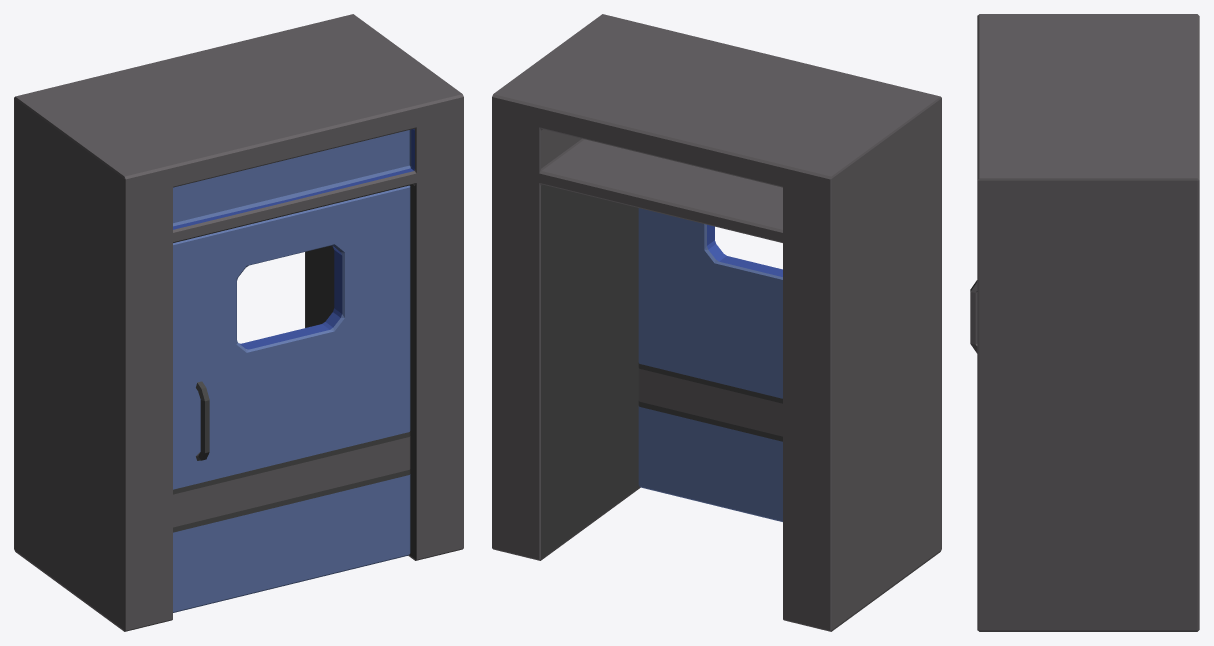
The model's file is door.fbx.
The picture shows the model from 3 angles, left to right: view 1: azimuth 30°, elevation 25°; view 2: azimuth 150°, elevation 25°; view 3: azimuth 270°, elevation 25°; orthographic projection.
Visible parts, largest first — view 1: doorframe, door; view 2: doorframe, door; view 3: doorframe, door.
Part boxes in pixels (x1,y1,x2,y2): doorframe: (14,14,463,631); door: (173,185,410,612); doorframe: (492,14,941,631); door: (638,208,782,521); doorframe: (977,14,1199,631); door: (970,280,977,353).
Bounding box in the file's own units: 351 × 450 × 206.
